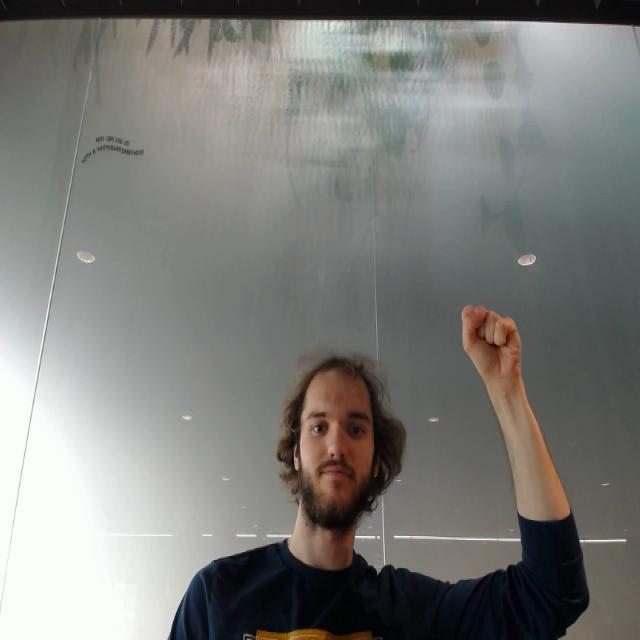stop: (458, 297, 528, 393)
